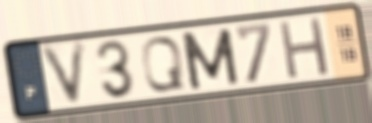3: (95, 37, 135, 101)
7: (233, 20, 274, 87)
H: (276, 14, 332, 82)
M: (177, 25, 243, 92)
Q: (139, 34, 188, 94)
V: (36, 36, 90, 111)
